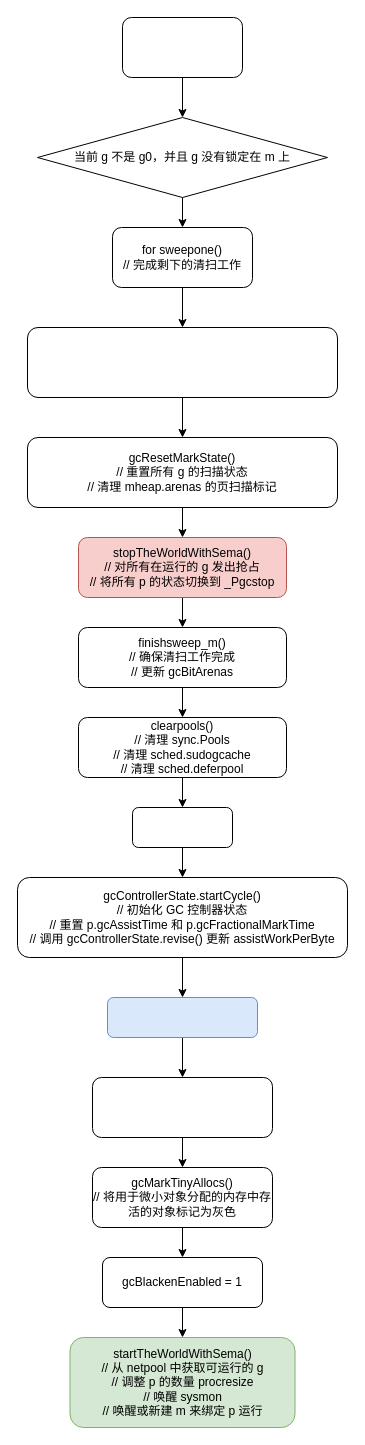
Image size: 365x1445. Some labels were removed from this diagram. Here are the shapes that lost their labels. From the top down, the box of each, then its label:
(122, 16, 242, 78): gcStart
(26, 326, 338, 398): gcBgMarkStartWorkers() // 遍历所有 P，在每个 P 上启动一个 gcBgMarkWorker()
(132, 806, 232, 848): work.cycles++
(106, 996, 258, 1038): setGCPhase(_GCmark) writeBarrier.enabled = true
(92, 1076, 272, 1138): gcMarkRootPrepare() // 计算需要扫描的工作量
